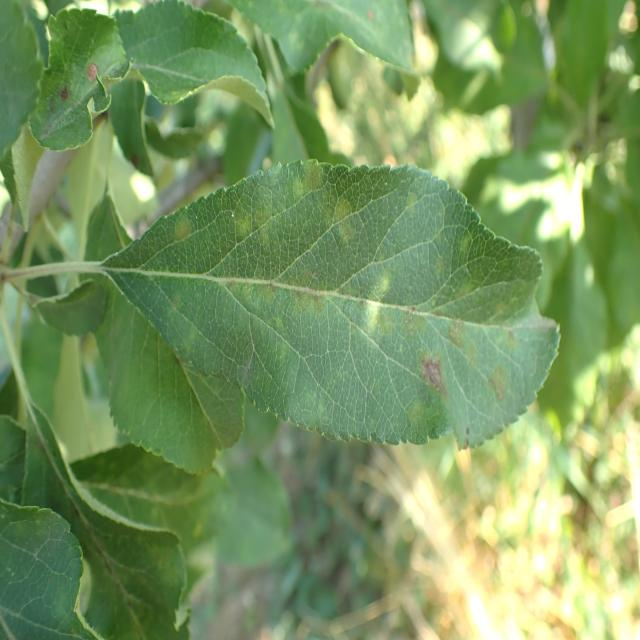scab: (158, 151, 542, 438)
